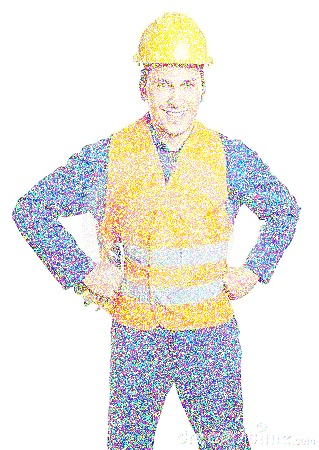helmet: (129, 4, 218, 136)
vest: (84, 122, 249, 334)
